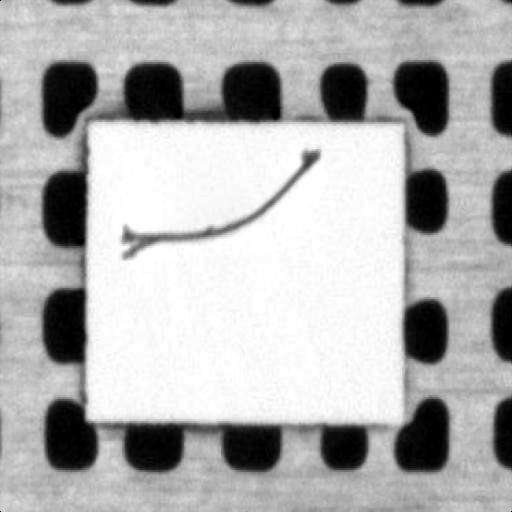DIE_INK: (151, 104, 432, 200)
